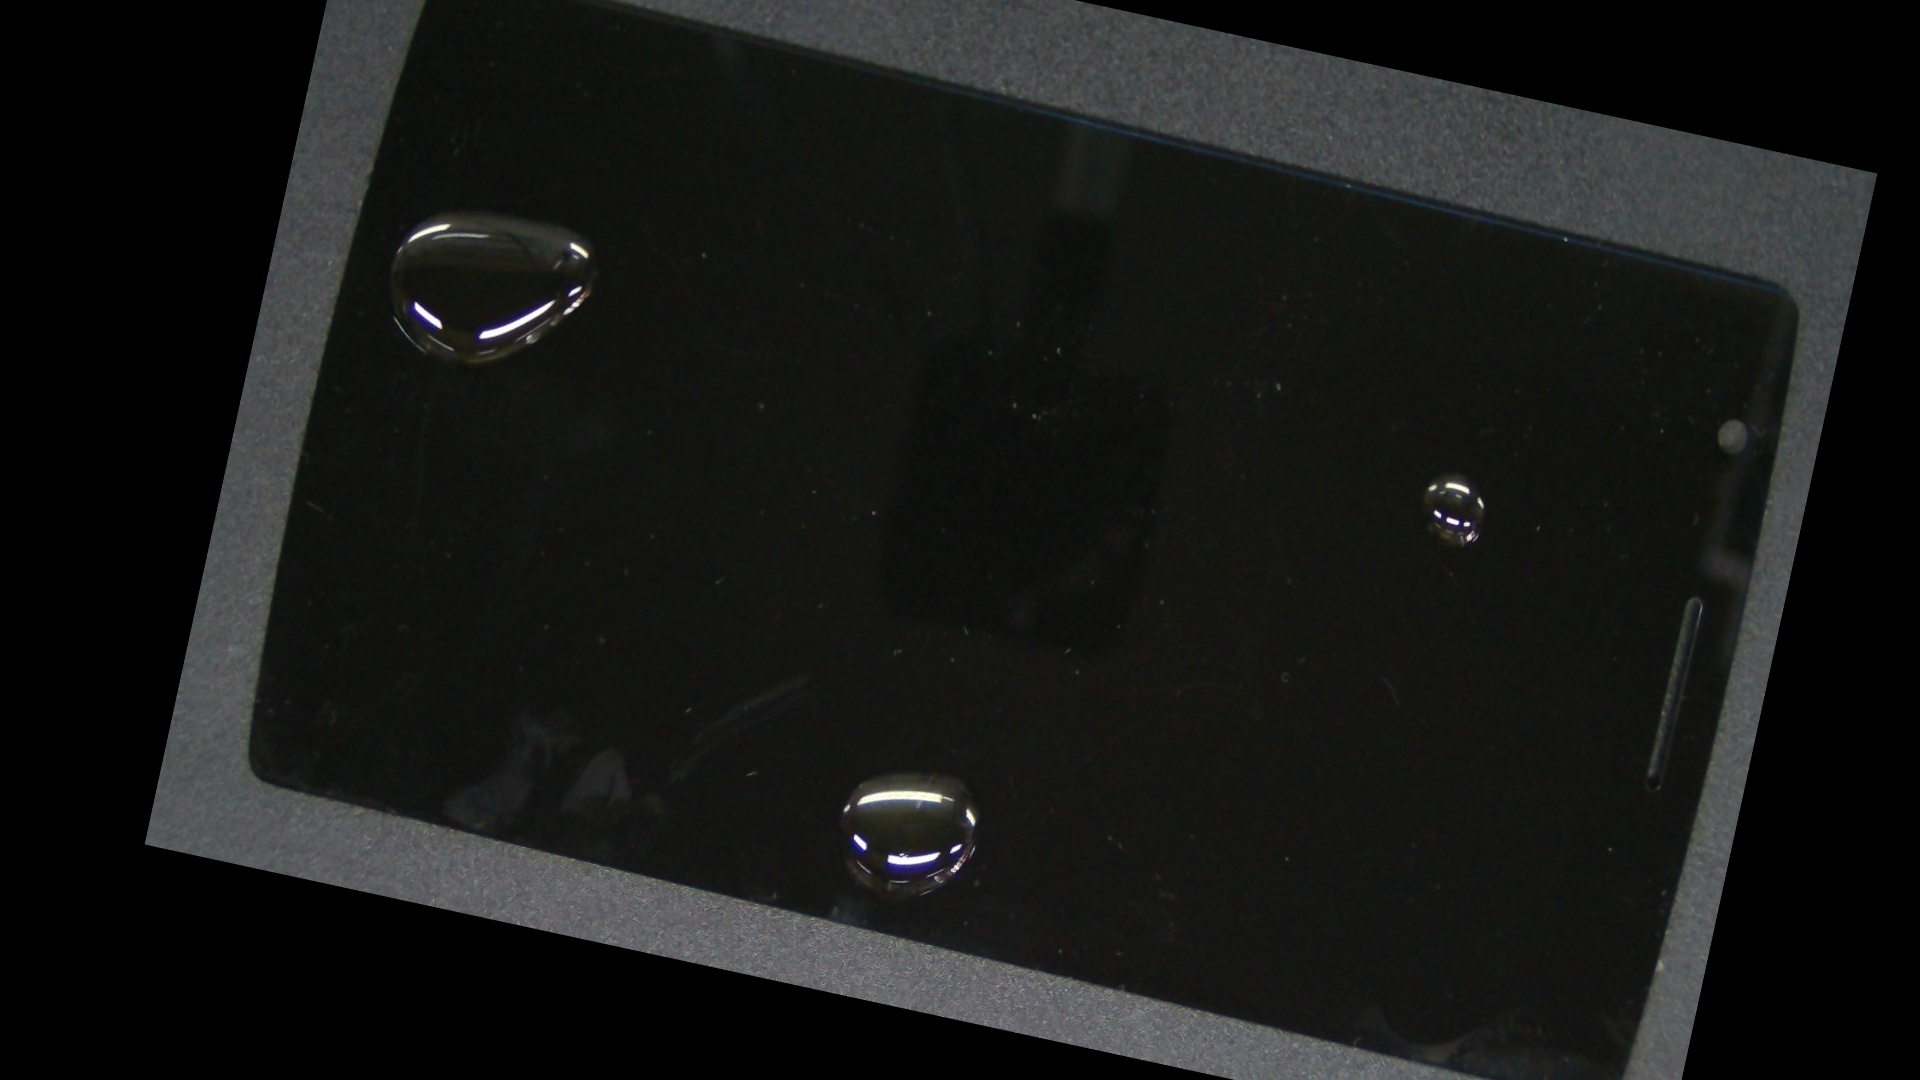oil: (525, 310, 1416, 1080), (827, 158, 1837, 733), (384, 34, 709, 413)
